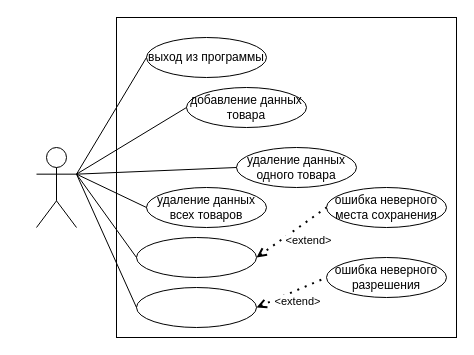
Image size: 474x355. Some labels were removed from this diagram. Each missing label, with the centre of its shape:
"открытие файла" belongs at (196,307).
"Пользователь" belongs at (56,187).
"сохранение файла" belongs at (196,257).
